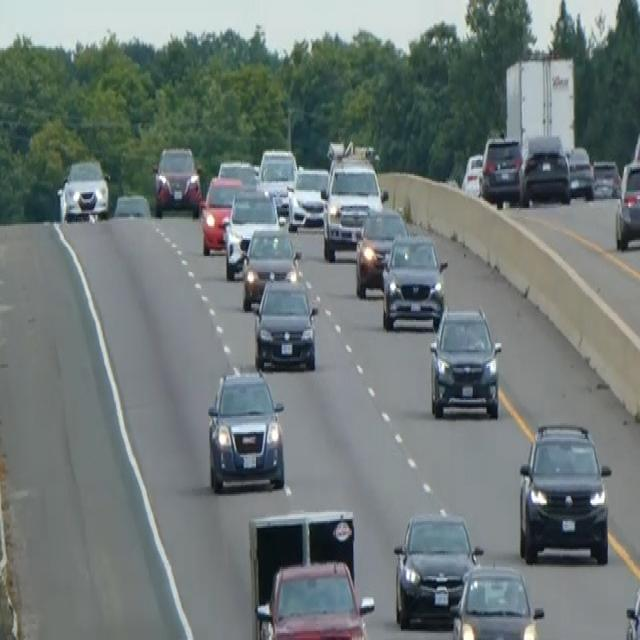car: (392, 508, 483, 628), (450, 562, 544, 638), (252, 274, 319, 372), (222, 183, 281, 279), (240, 222, 301, 310), (354, 204, 408, 298), (520, 132, 571, 204), (199, 172, 243, 255), (480, 134, 523, 206), (287, 164, 329, 231), (257, 146, 297, 212), (614, 156, 639, 249), (566, 144, 594, 199), (216, 156, 258, 186), (591, 157, 620, 199), (112, 190, 151, 219), (461, 151, 483, 196)
jeep: (517, 418, 612, 565), (206, 364, 286, 492), (428, 304, 502, 420), (321, 155, 386, 261), (380, 231, 447, 331), (56, 155, 111, 224), (152, 142, 202, 217)
motorcycle: (623, 582, 639, 638)
truck: (246, 505, 357, 638), (502, 54, 577, 156)
